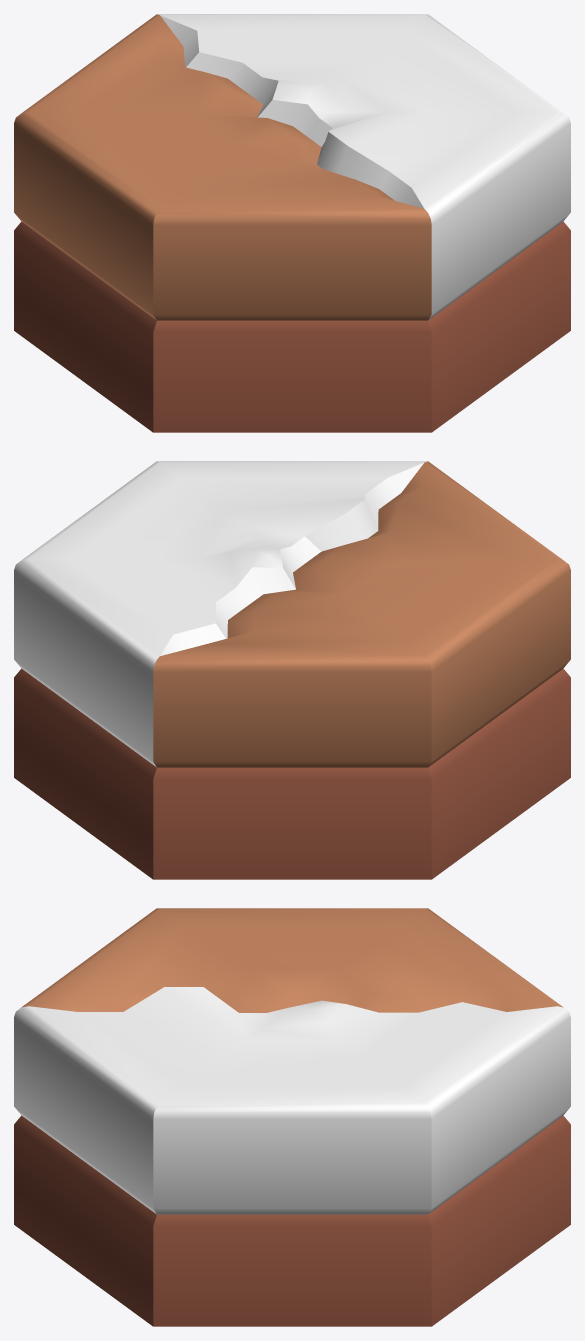
The model's file is hex_rock_transitionB.glb.
3 renders of one model, top to bottom at view 1: azimuth 30°, elevation 25°; view 2: azimuth 150°, elevation 25°; view 3: azimuth 270°, elevation 25°, orthographic.
Parts seen in each view (by area): view 1: hex_rock_transitionB; view 2: hex_rock_transitionB; view 3: hex_rock_transitionB.
Part boxes in pixels (box(x1,y1,x2,y2)): hex_rock_transitionB: box(14, 14, 570, 432); hex_rock_transitionB: box(14, 461, 570, 879); hex_rock_transitionB: box(14, 908, 570, 1326).
Size of the model in its own units: 3.82 by 2.04 by 4.41.
